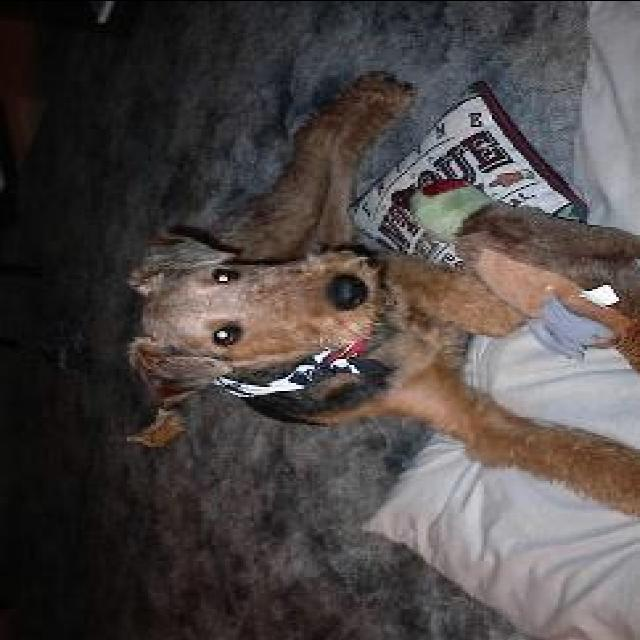airedale: (108, 64, 638, 524)
